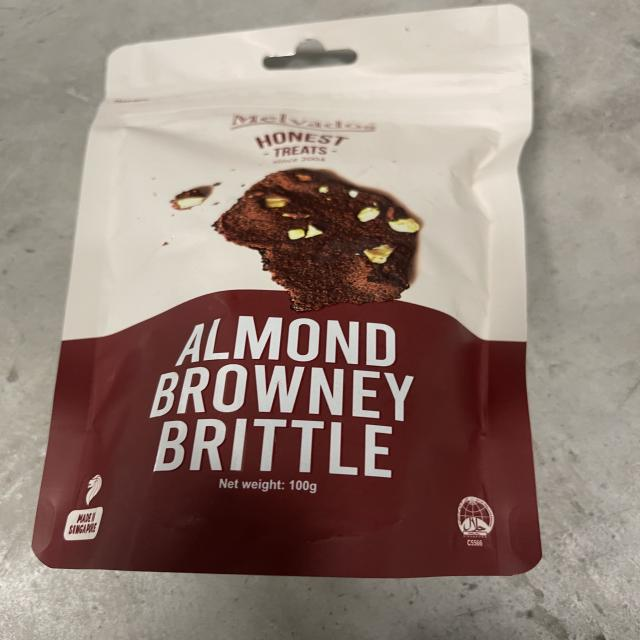object_name: (79, 46, 534, 567)
